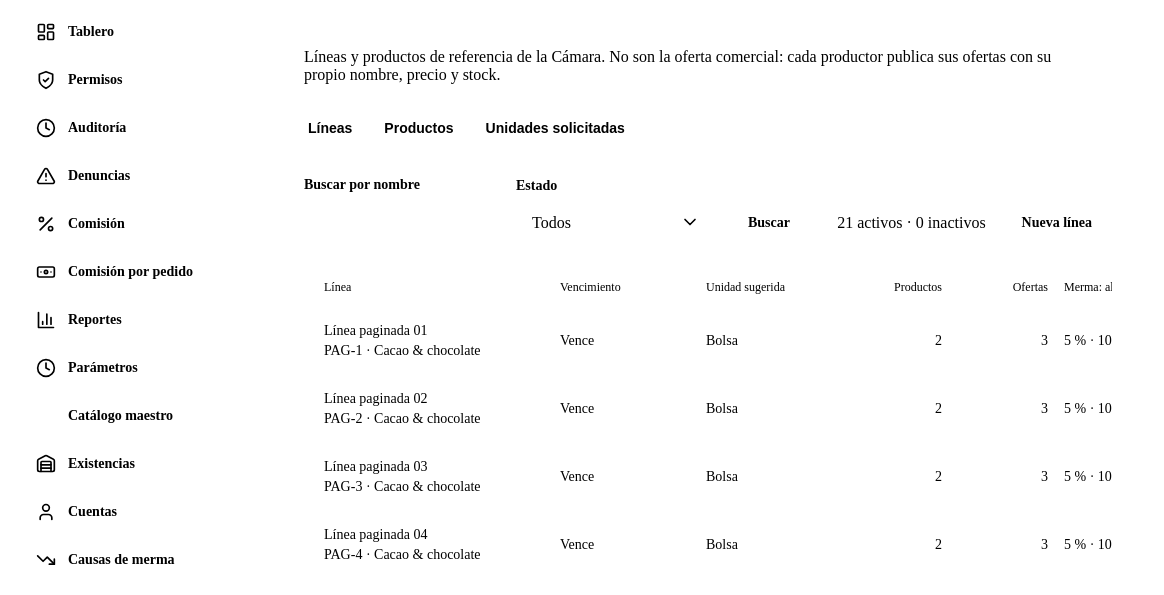
Paginación del catálogo (HU-433) › muestra 20 productos en la primera página y el registro 21 con total 21 en la segunda
Click the tab "Productos" at (419, 129), box x1=380 y1=108 x2=458 y2=151
(page scrolled)
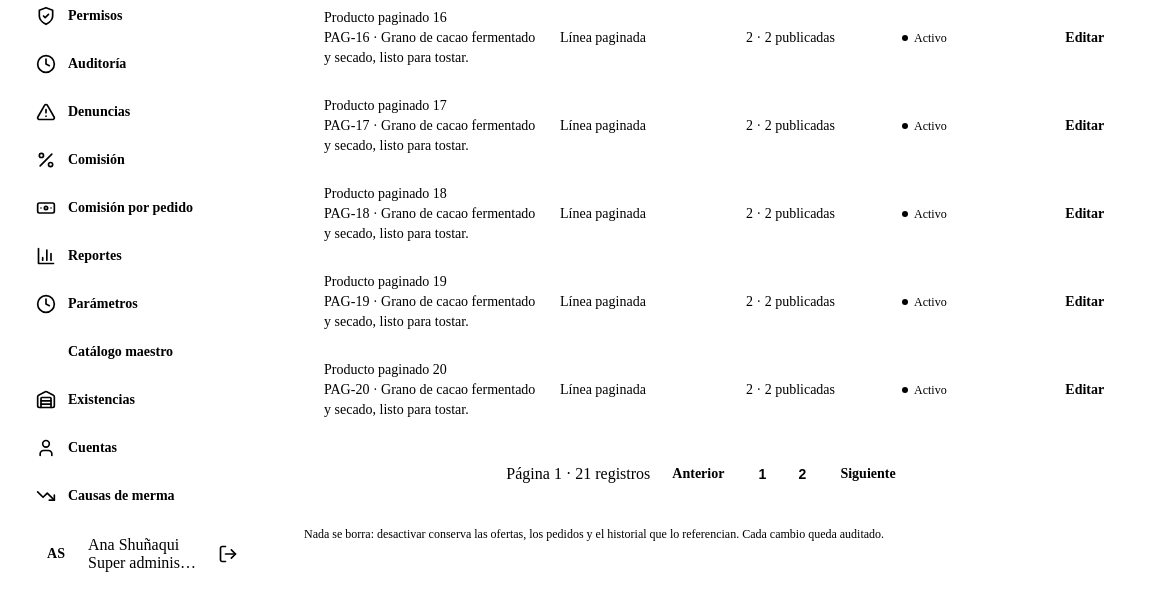
Check: the text "Producto paginado 21" is not shown
Check: the text "Producto paginado 20" is shown, box x1=324 y1=362 x2=447 y2=377
Click the button "Siguiente" at (868, 474), box x1=826 y1=458 x2=910 y2=490
(page scrolled)
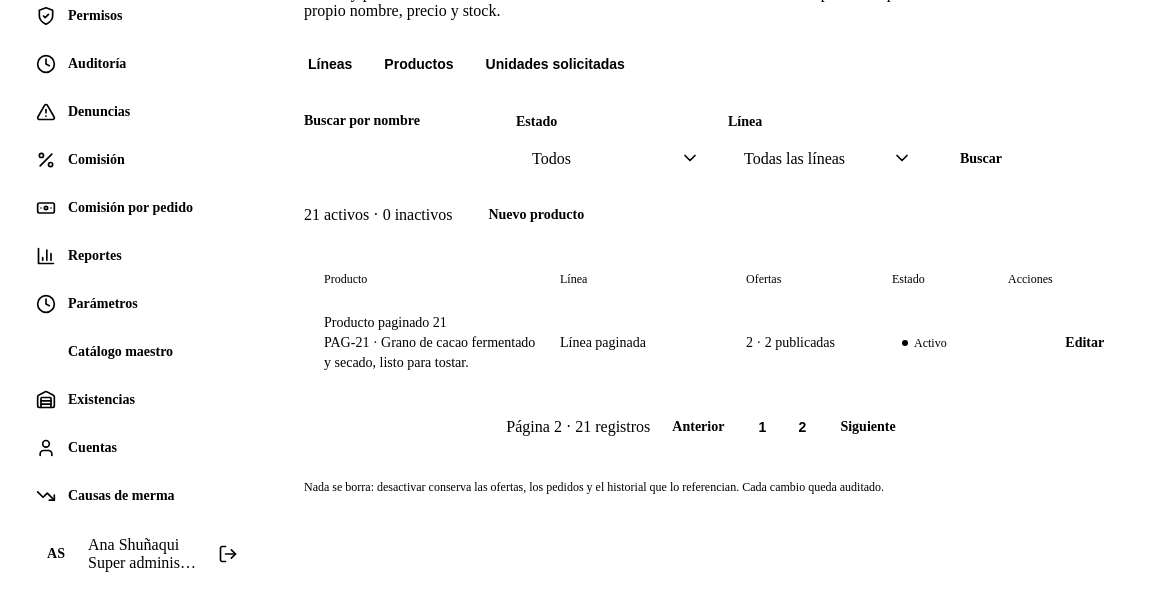
Check: the text "Página 2 · 21 registros" is shown, box x1=506 y1=418 x2=650 y2=436
Check: the text "Producto paginado 21" is shown, box x1=324 y1=315 x2=447 y2=330
